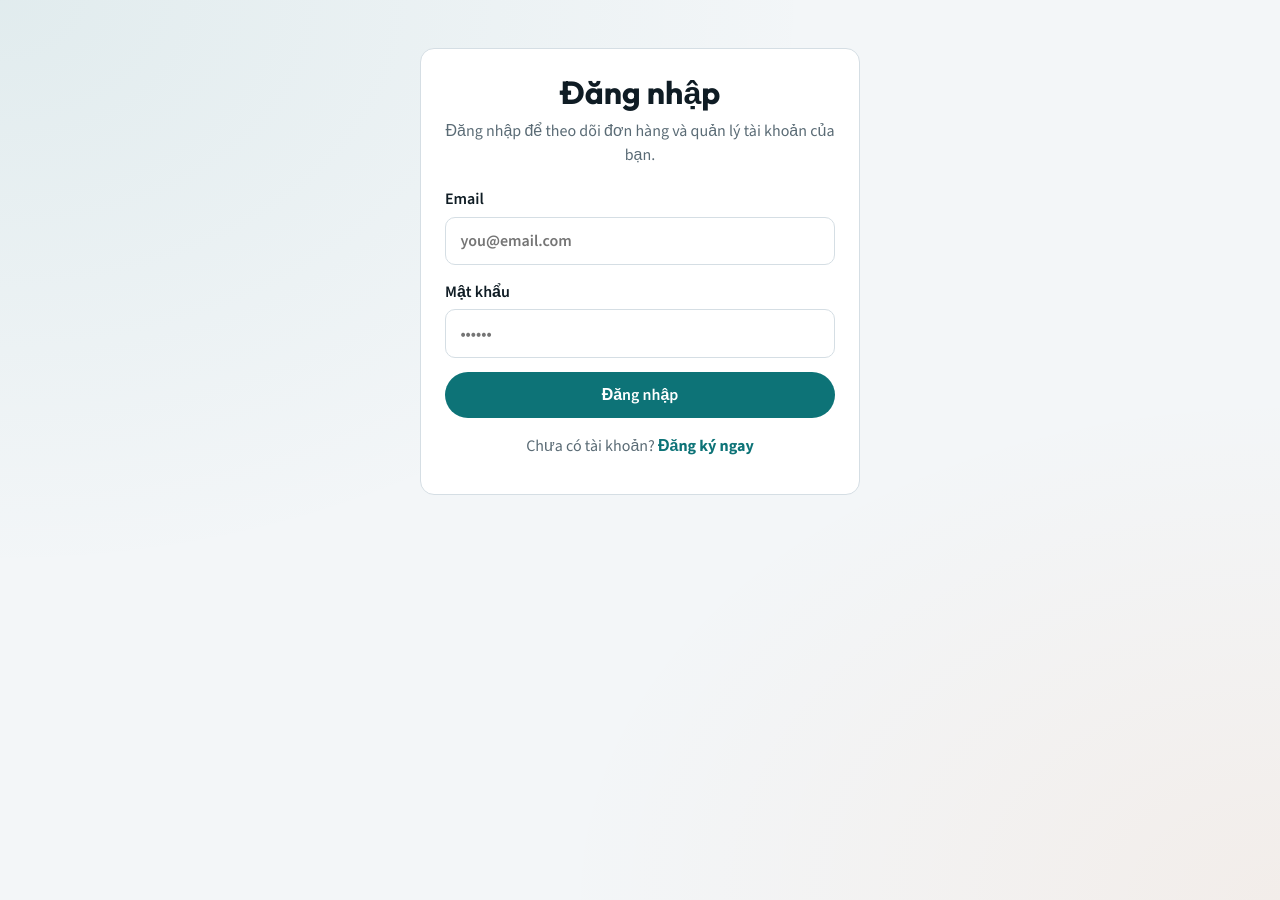
Test: Trang Login › bỏ trống email hoặc mật khẩu: không gọi API
The image size is (1280, 900).
Type "admin@devshop.com" into the field labelled "Email" at (640, 241), box x1=445 y1=217 x2=835 y2=265
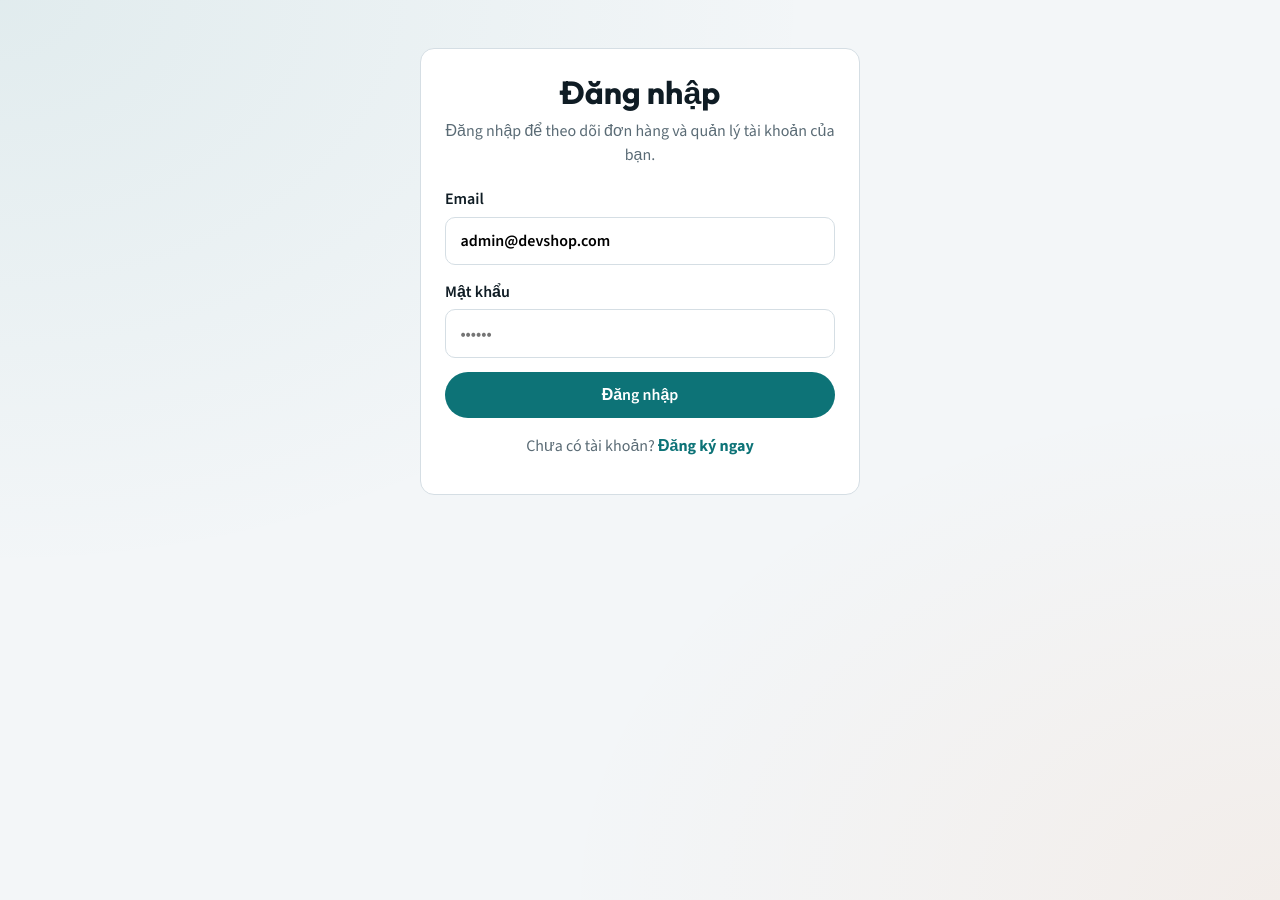
Click the button "Đăng nhập" at (640, 395), box x1=445 y1=372 x2=835 y2=418
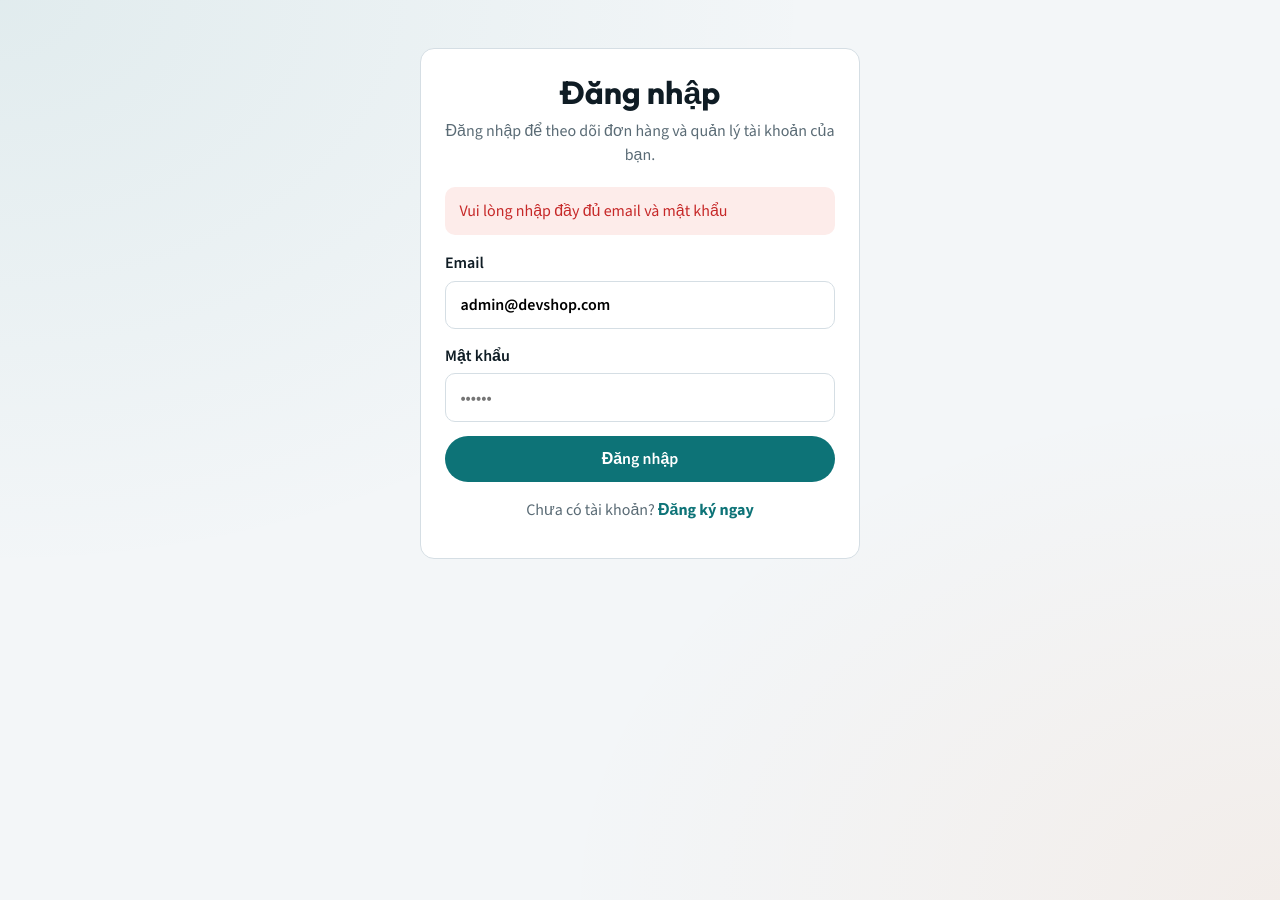
Check: the text "Vui lòng nhập đầy đủ email và mật khẩu" is shown, box x1=445 y1=187 x2=835 y2=235
